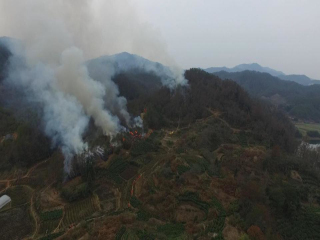smoke: (8, 14, 191, 175)
